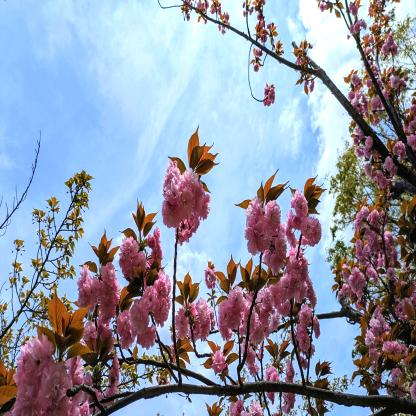YaeSakura: (4, 0, 416, 416)
